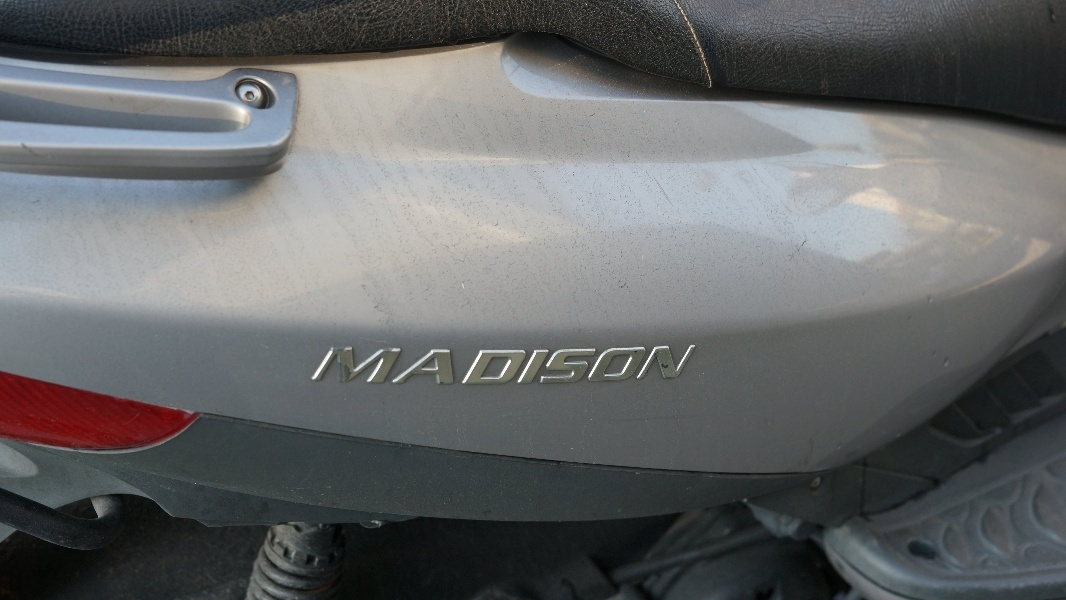text: (337, 344, 352, 389), (353, 344, 368, 389), (369, 344, 384, 389), (385, 344, 400, 389), (401, 344, 416, 389), (417, 344, 432, 389), (433, 344, 448, 389), (449, 344, 464, 389), (465, 344, 480, 389), (481, 344, 496, 389), (497, 344, 512, 389), (513, 344, 528, 389), (529, 344, 544, 389), (545, 344, 560, 389), (561, 344, 576, 389), (577, 344, 592, 389), (593, 344, 608, 389), (609, 344, 624, 389), (625, 344, 640, 389), (641, 344, 656, 389), (657, 344, 672, 389), (673, 344, 688, 389), (689, 344, 702, 389), (331, 344, 336, 389)
